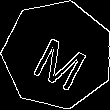M_NE: (25, 22, 90, 88)
